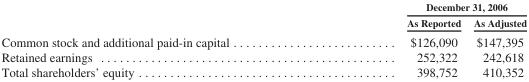table: (0, 1, 526, 78)
table column: (0, 1, 317, 78), (317, 1, 466, 78), (466, 1, 526, 78)
table column header: (0, 1, 526, 31)
table row: (0, 31, 526, 49), (0, 14, 526, 31), (0, 49, 526, 64), (0, 64, 526, 78), (0, 1, 526, 14)
table spanning cell: (317, 1, 526, 14)
